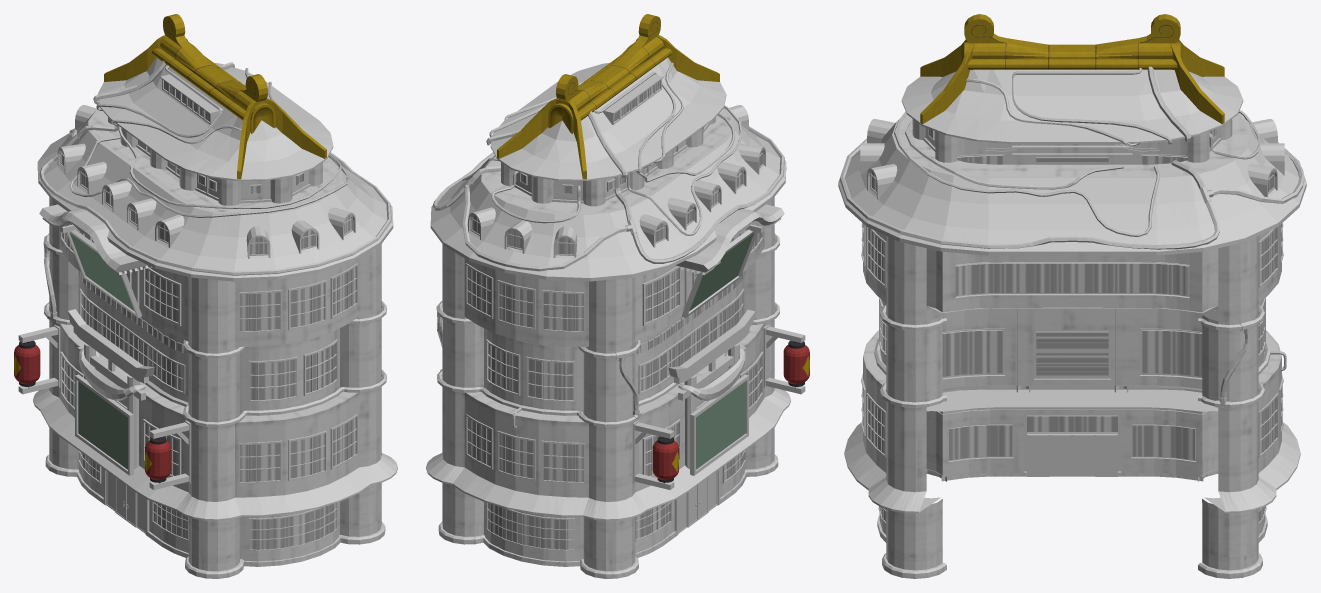
The model's file is REDUCTION_SM_ENV_KNVLLG_CommonBuilding_E_1.mo.fbx.
3 renders of one model, left to right at view 1: azimuth 30°, elevation 25°; view 2: azimuth 150°, elevation 25°; view 3: azimuth 270°, elevation 25°, orthographic. The views are drawn at different scales.
Parts seen in each view (by area): view 1: REDUCTION_SM_ENV_KNVLLG_CommonBuilding_E_1.mo; view 2: REDUCTION_SM_ENV_KNVLLG_CommonBuilding_E_1.mo; view 3: REDUCTION_SM_ENV_KNVLLG_CommonBuilding_E_1.mo.
Part boxes in pixels (x1=…): REDUCTION_SM_ENV_KNVLLG_CommonBuilding_E_1.mo: x1=14, y1=14, x2=397, y2=578; REDUCTION_SM_ENV_KNVLLG_CommonBuilding_E_1.mo: x1=426, y1=14, x2=809, y2=578; REDUCTION_SM_ENV_KNVLLG_CommonBuilding_E_1.mo: x1=838, y1=14, x2=1306, y2=578.
Size of the model in its own units: 22 by 36 by 30.
